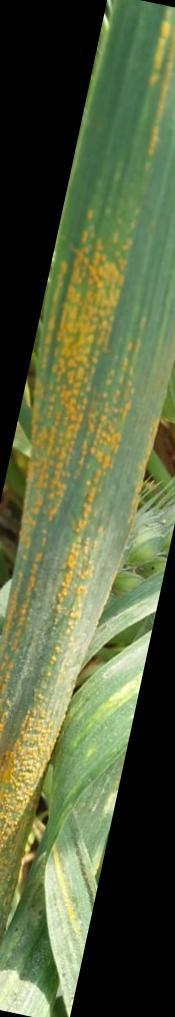Wheat: (29, 180, 156, 608)
